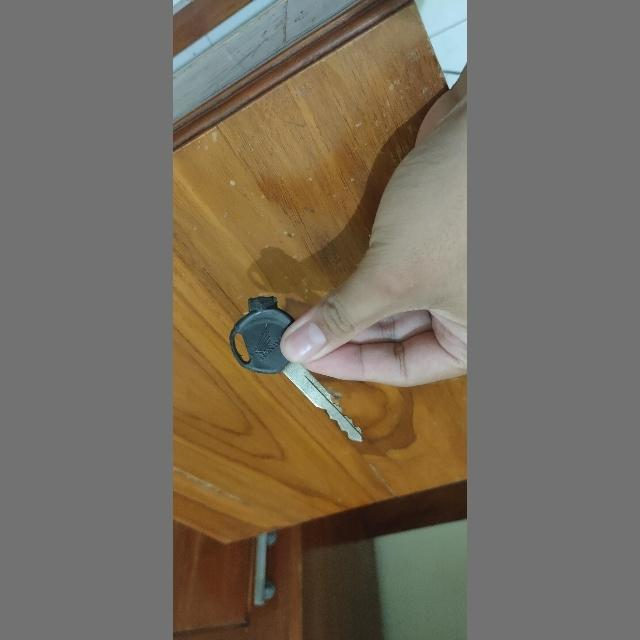Keys: (225, 286, 372, 456)
